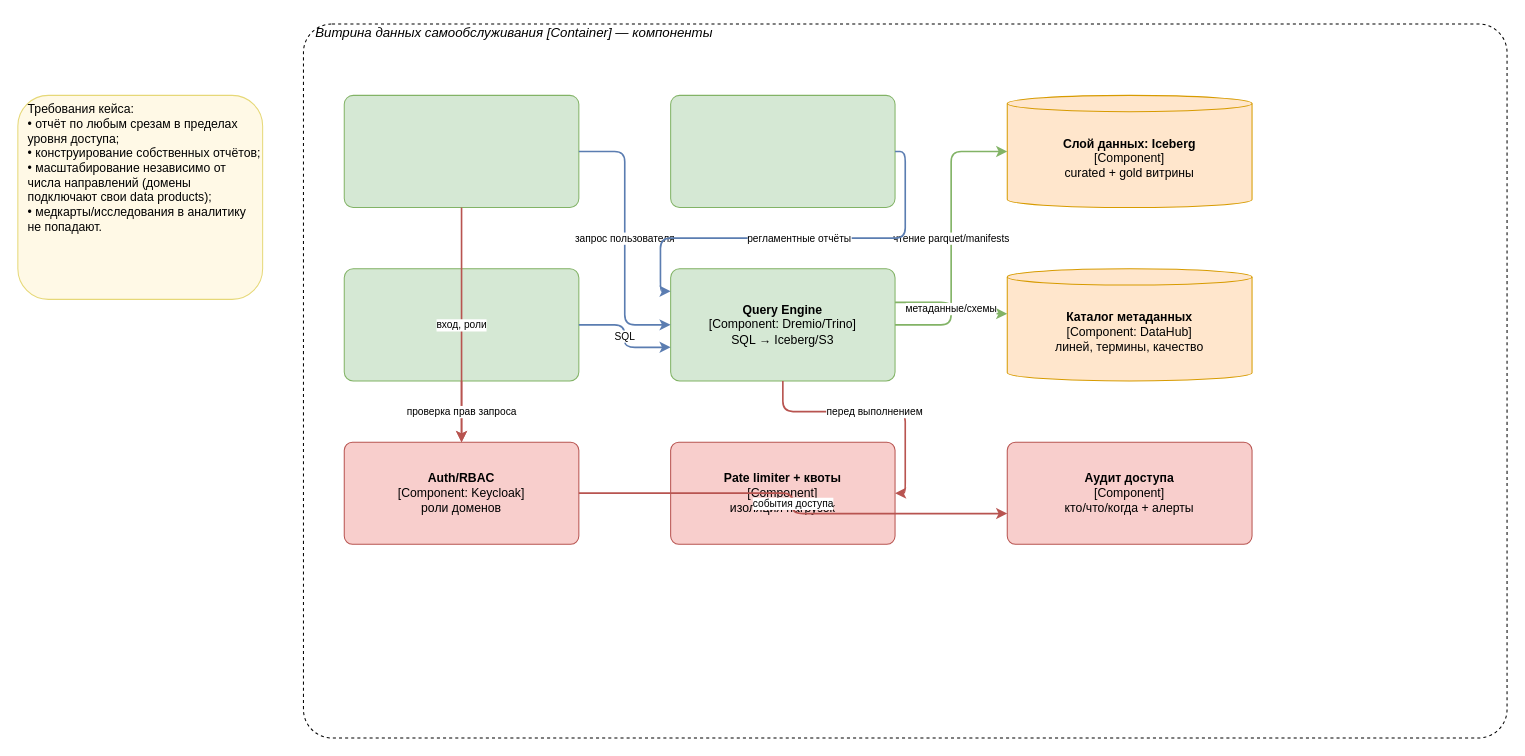
The diagram is 1525 pixels wide and 756 high, and some of its shapes have lost their labels. The box of each missing label's shape, as (x1, y1, x2, y2) in pixels:
SQL Runner [Component] произвольные запросы в рамках прав: (343, 268, 579, 381)
Веб-портал отчётов [Component: React] дашборды, конструктор: (343, 94, 579, 208)
Планировщик отчётов [Component: Airflow] подписки, регламент: (670, 94, 895, 208)
